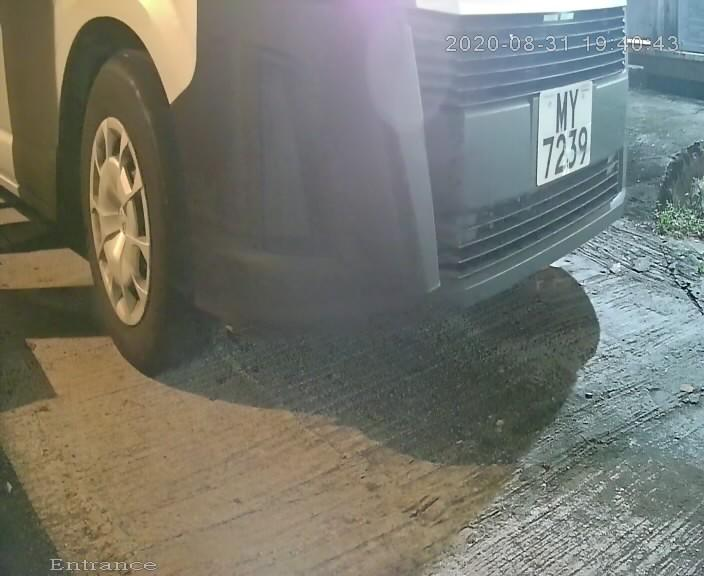License Plate: (522, 67, 598, 199)
